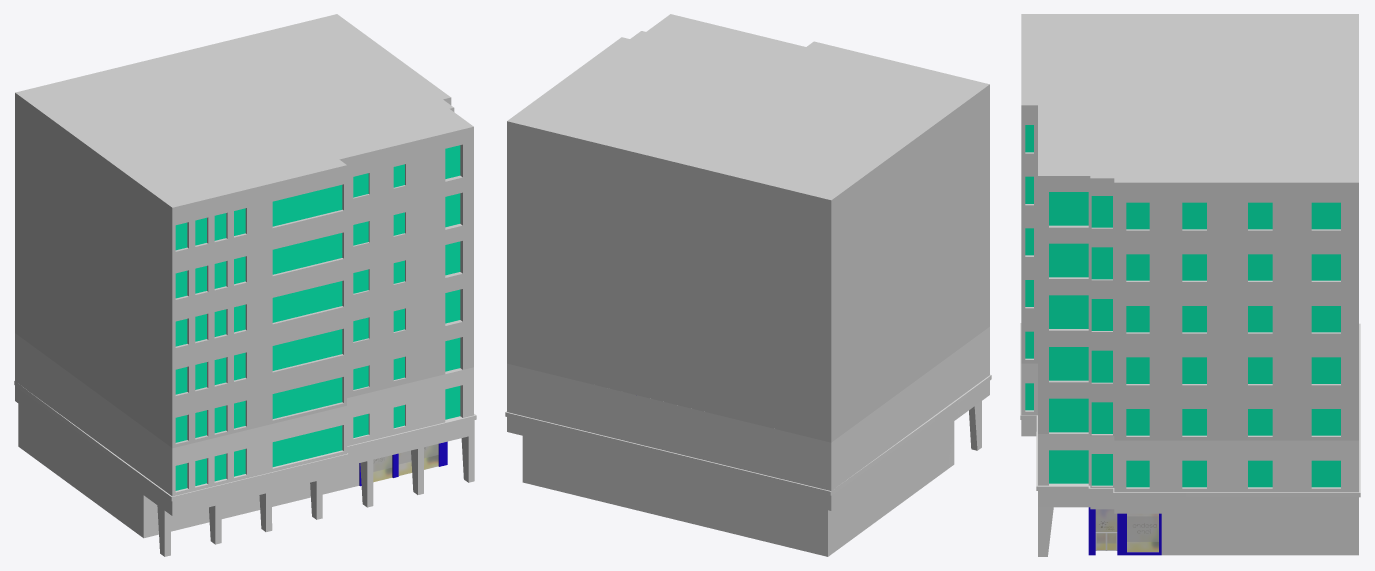
The model's file is Edificio Exterior.fbx.
The picture shows the model from 3 angles, left to right: view 1: azimuth 30°, elevation 25°; view 2: azimuth 150°, elevation 25°; view 3: azimuth 270°, elevation 25°; orthographic projection. The views are drawn at different scales.
Visible parts, largest first — view 1: 01 Edificio Plantas, 01 Edificio exterior, Cube.001; view 2: 01 Edificio Plantas, 01 Edificio exterior; view 3: 01 Edificio Plantas, 01 Edificio exterior, Cube.001.
Boxes of the visible parts, x1,y1,x2,y2 form: 01 Edificio Plantas: [15, 14, 473, 448]; 01 Edificio exterior: [14, 333, 476, 538]; Cube.001: [157, 435, 474, 556]; 01 Edificio Plantas: [507, 14, 989, 442]; 01 Edificio exterior: [505, 327, 991, 556]; 01 Edificio Plantas: [1021, 14, 1358, 440]; 01 Edificio exterior: [1020, 323, 1360, 555]; Cube.001: [1038, 507, 1053, 556].
Size of the model in its own units: 54173 by 56574 by 45844.
